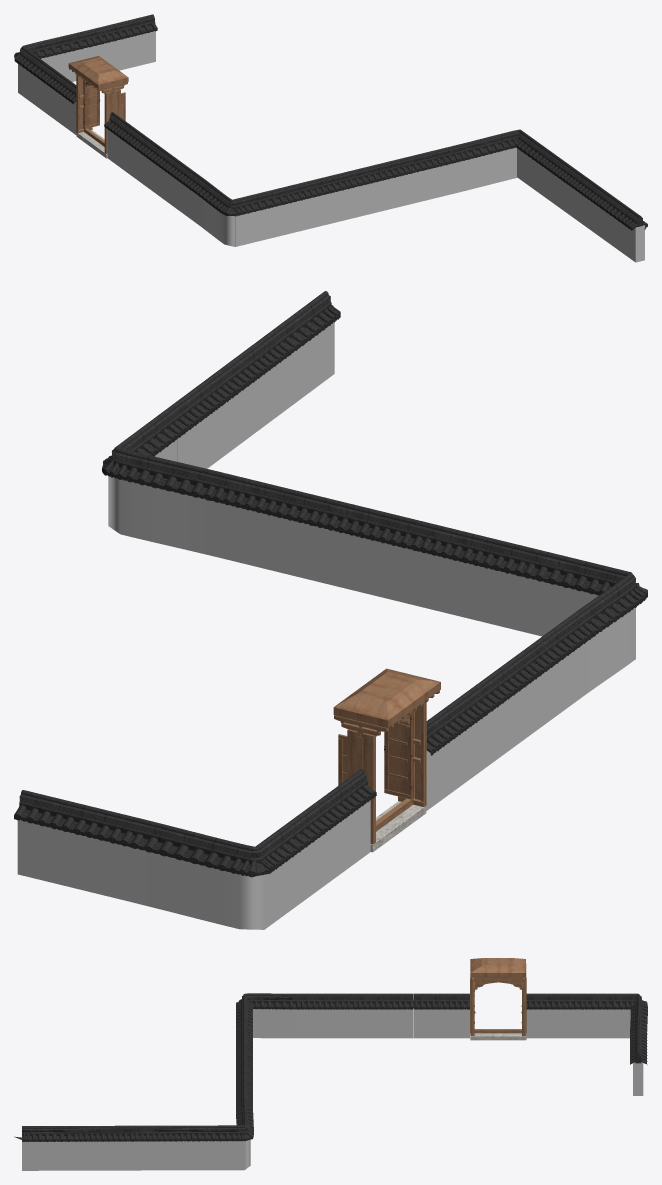
The model's file is SM_HBJ_HG_StoneWallH_Splines_27.fbx.
3 views of the same model, one above another, from view 1: azimuth 30°, elevation 25°; view 2: azimuth 150°, elevation 25°; view 3: azimuth 270°, elevation 25° (orthographic). The views are drawn at different scales.
Parts seen in each view (by area): view 1: SM_HBJ_HG_StoneWallH_Splines_27; view 2: SM_HBJ_HG_StoneWallH_Splines_27; view 3: SM_HBJ_HG_StoneWallH_Splines_27.
Boxes of the visible parts, bbox=[...] form: SM_HBJ_HG_StoneWallH_Splines_27: bbox=[14, 14, 647, 262]; SM_HBJ_HG_StoneWallH_Splines_27: bbox=[14, 291, 647, 929]; SM_HBJ_HG_StoneWallH_Splines_27: bbox=[14, 958, 647, 1170].
Bounding box in the file's own units: 1282 × 2414 × 315.
